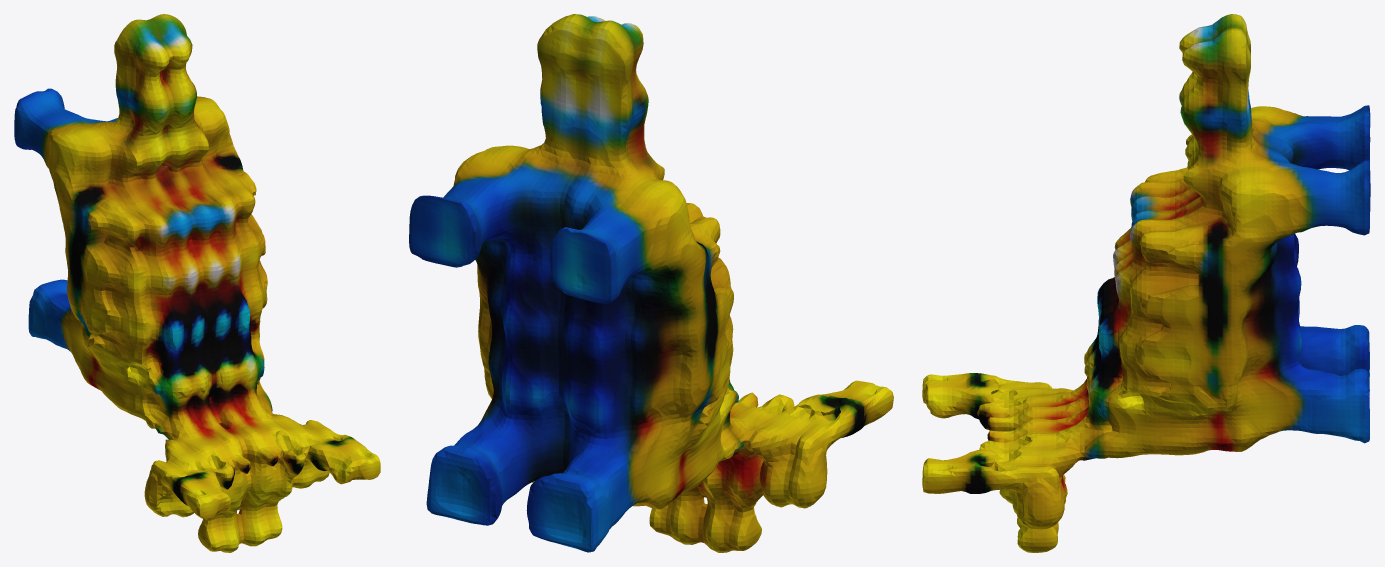
File: a_corgi_lego.glb
3 views of the same model, side by side, from view 1: azimuth 30°, elevation 25°; view 2: azimuth 150°, elevation 25°; view 3: azimuth 270°, elevation 25° (orthographic). The views are drawn at different scales.
Parts seen in each view (by area): view 1: 0.ply; view 2: 0.ply; view 3: 0.ply.
Boxes of the visible parts, x1=… form: 0.ply: x1=14, y1=14, x2=380, y2=552; 0.ply: x1=409, y1=14, x2=893, y2=552; 0.ply: x1=922, y1=14, x2=1370, y2=552.
Bounding box in the file's own units: 0.7711 × 1.88 × 1.47.
